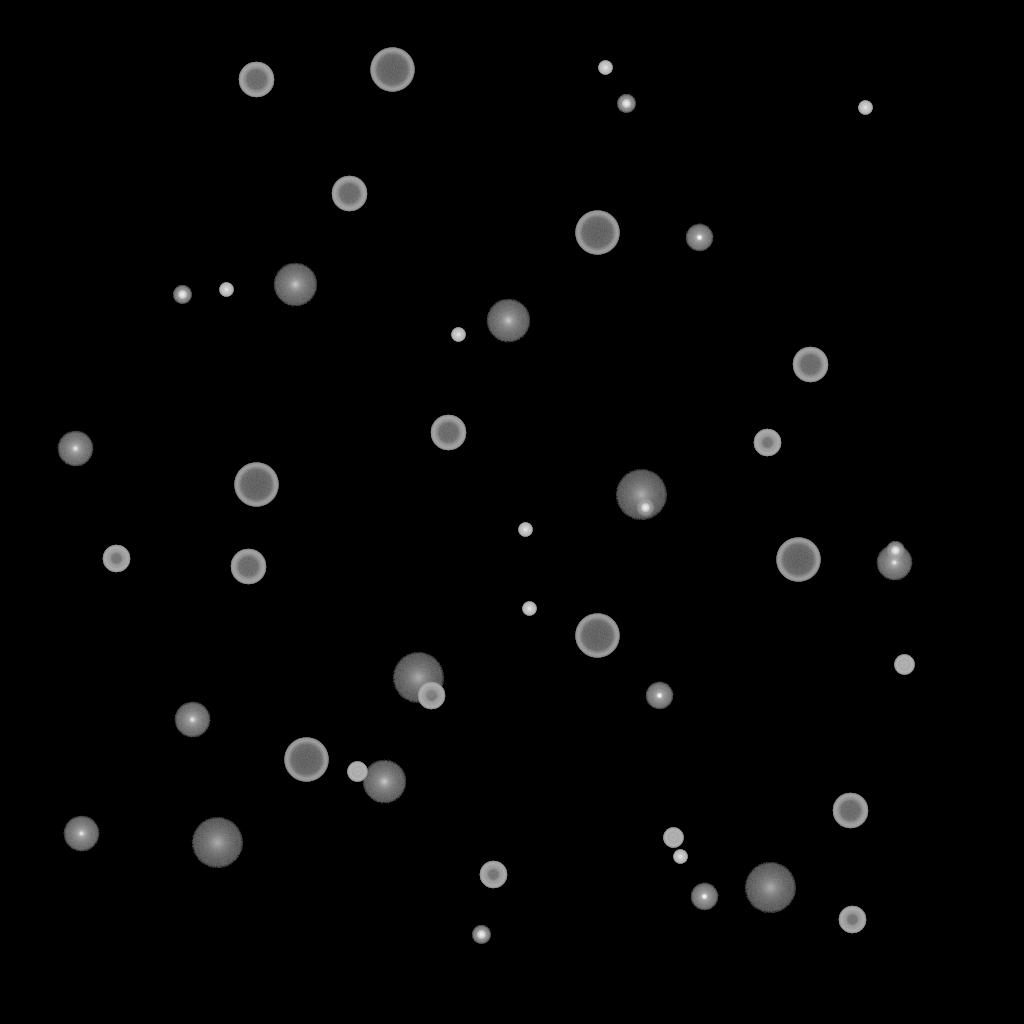depth:-10: (690, 883, 718, 911), (685, 224, 713, 252), (645, 682, 673, 710)
depth:-20: (886, 542, 904, 560), (472, 926, 490, 944), (636, 499, 654, 517), (617, 95, 635, 113), (173, 286, 191, 304)
depth:-30: (673, 850, 687, 864), (858, 101, 872, 115), (598, 61, 612, 75), (518, 523, 532, 537), (219, 283, 233, 297), (451, 328, 465, 342), (522, 602, 536, 616)
depth:-40: (894, 655, 914, 675), (347, 762, 367, 782), (663, 828, 683, 848)
depth:-50: (479, 861, 507, 889), (838, 906, 866, 934), (417, 682, 445, 710), (753, 429, 781, 457), (102, 545, 130, 573)
depth:-60: (792, 347, 828, 383), (832, 793, 868, 829), (331, 176, 367, 212), (238, 62, 274, 98), (430, 415, 466, 451), (230, 549, 266, 585)
depth:-70: (284, 738, 328, 782), (370, 48, 414, 92), (776, 538, 820, 582), (575, 211, 619, 255), (575, 614, 619, 658), (234, 463, 278, 507)
depth:0: (174, 702, 210, 738), (63, 816, 99, 852), (57, 431, 93, 467), (876, 545, 912, 581)
depth:10: (273, 263, 317, 307), (486, 299, 530, 343), (362, 760, 406, 804)
depth:20: (392, 653, 444, 703), (191, 818, 243, 868), (615, 470, 667, 520), (744, 863, 796, 913)
